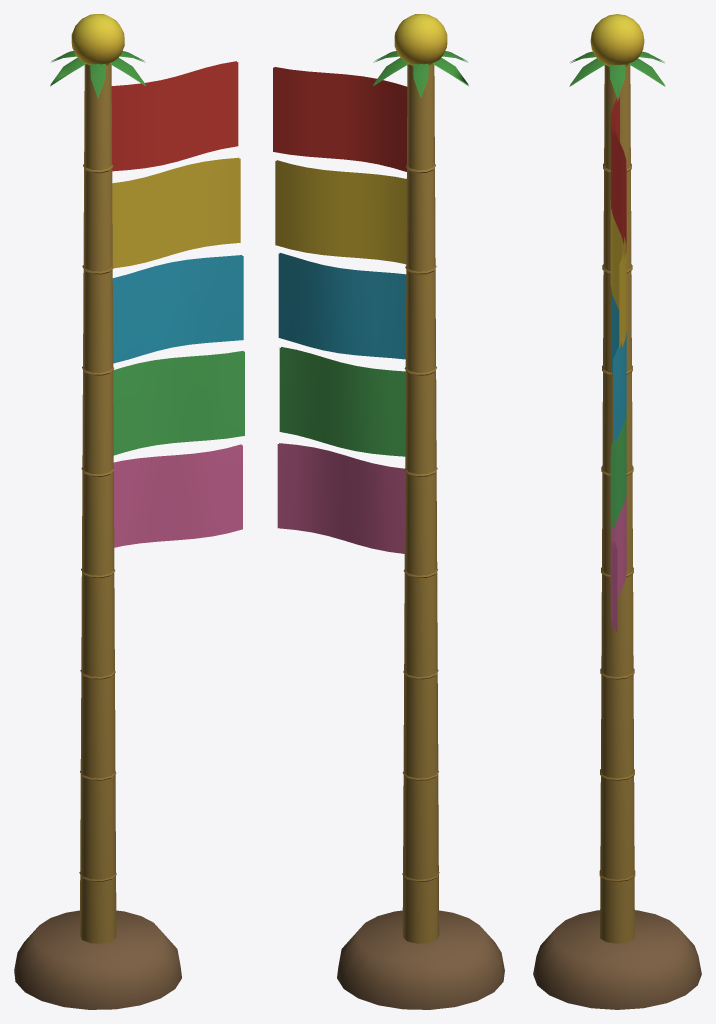
Rendered from fe-hoilang-pole.glb.
The picture shows the model from 3 angles, left to right: view 1: azimuth 30°, elevation 25°; view 2: azimuth 150°, elevation 25°; view 3: azimuth 270°, elevation 25°; orthographic projection.
Visible parts, largest first — view 1: fe-hoilang-pole; view 2: fe-hoilang-pole; view 3: fe-hoilang-pole.
Part boxes in pixels (box(x1,y1,x2,y2)): fe-hoilang-pole: box(14, 14, 244, 1009); fe-hoilang-pole: box(273, 14, 504, 1009); fe-hoilang-pole: box(533, 14, 701, 1009).
Bounding box in the file's own units: 1.48 × 6.26 × 1.
